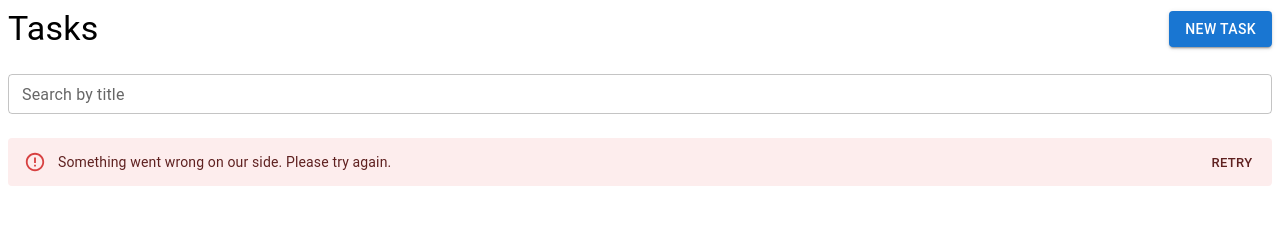
TaskList › shows the API error with a retry when the list cannot load
Click the button "Retry": (1232, 163) top-left (1200, 148), bottom-right (1264, 179)
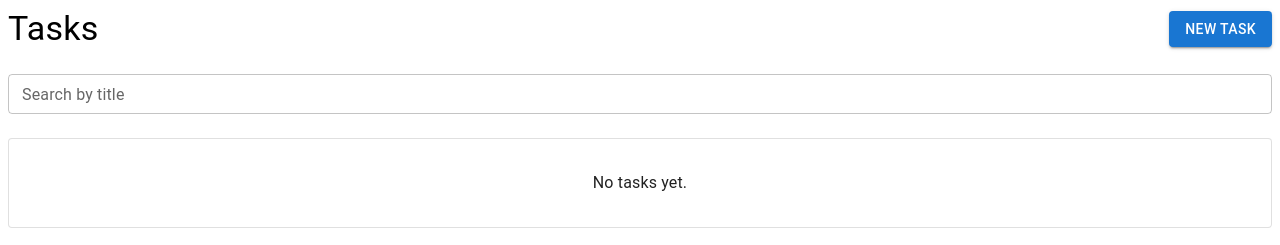
Check: the text "No tasks yet." is shown, box top-left (593, 173), bottom-right (687, 192)
